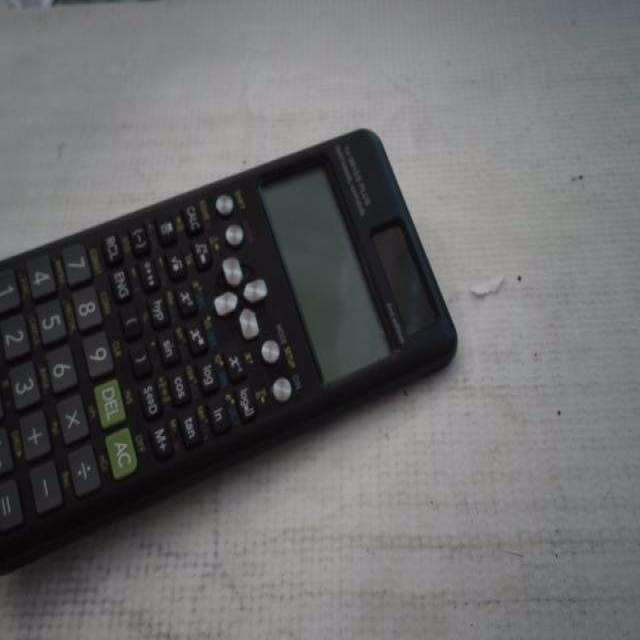Calculator: (0, 122, 460, 580)
